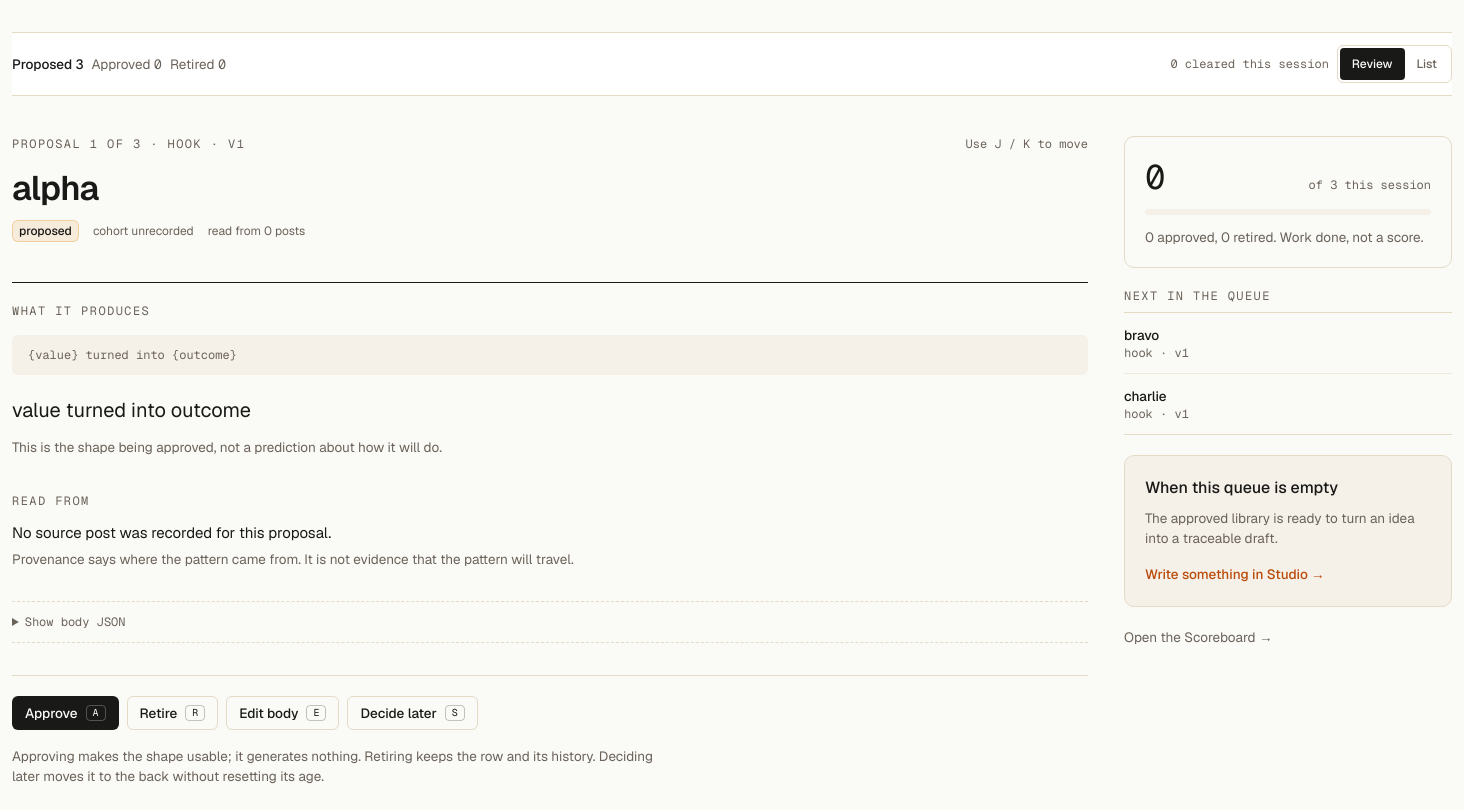
Test: approve and retire › retires the template on screen, at its own url
This screenshot has width=1464, height=810.
Click the button "Retire R".
click(172, 713)  # box [126,696,218,730]
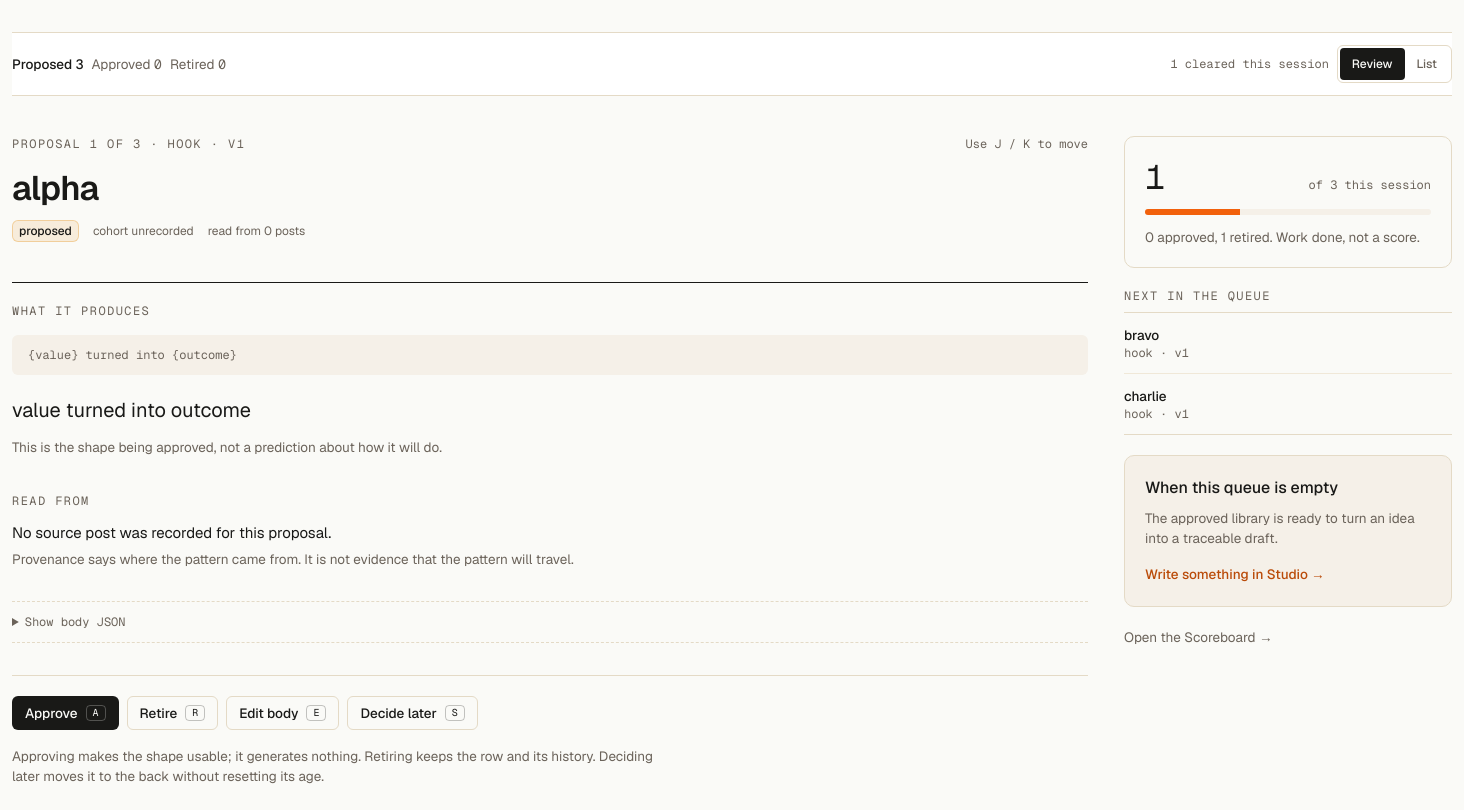
Expected: the text "0 approved, 1 retired. Work done, not a score." is shown, [1145,227,1431,247]
